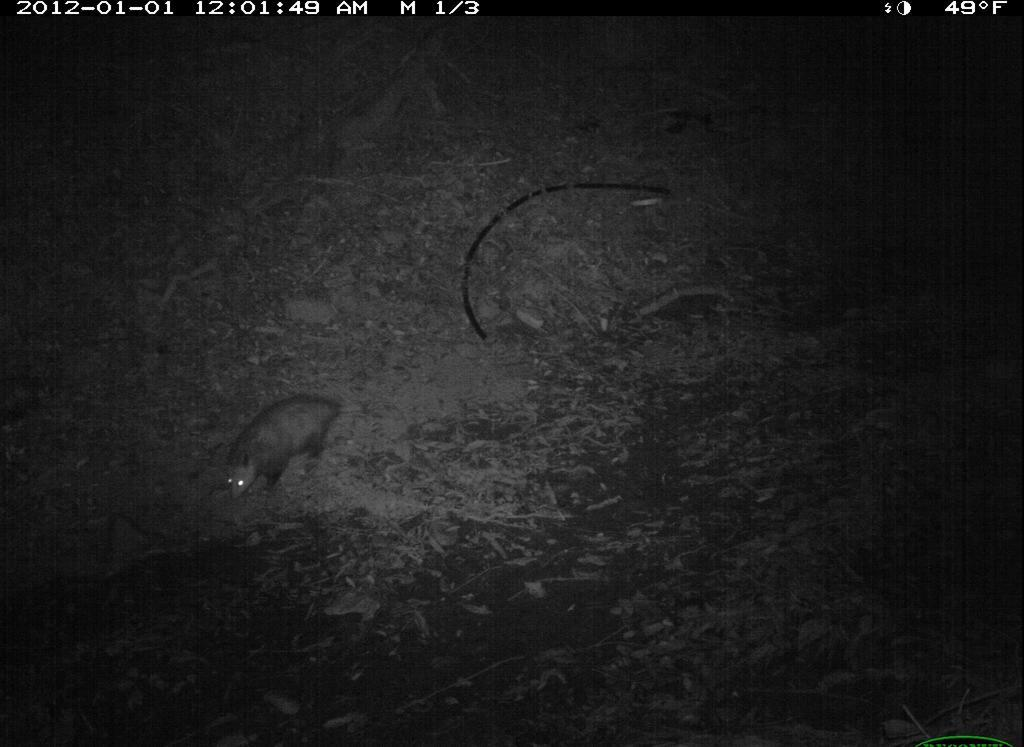opossum: (196, 374, 383, 523)
